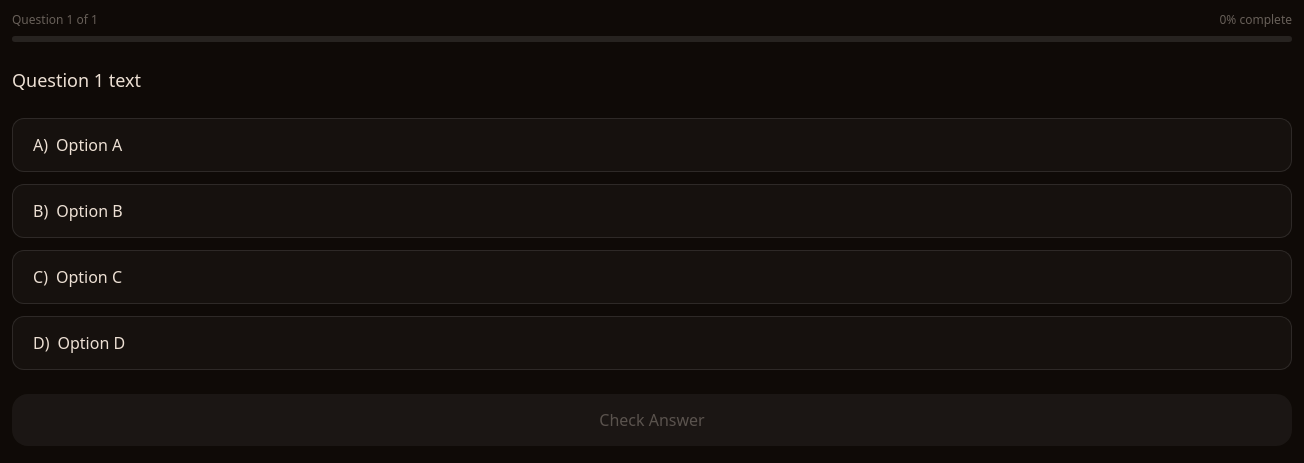
it: QuizRenderer — answer selection › enables "Check Answer" once an option is selected
The width and height of the screenshot is (1304, 463).
What coordinates should you click on to do the following:
click the button "A)Option A"
I would click on:
 (89, 145)
Its box is left=12, top=118, right=1292, bottom=172.
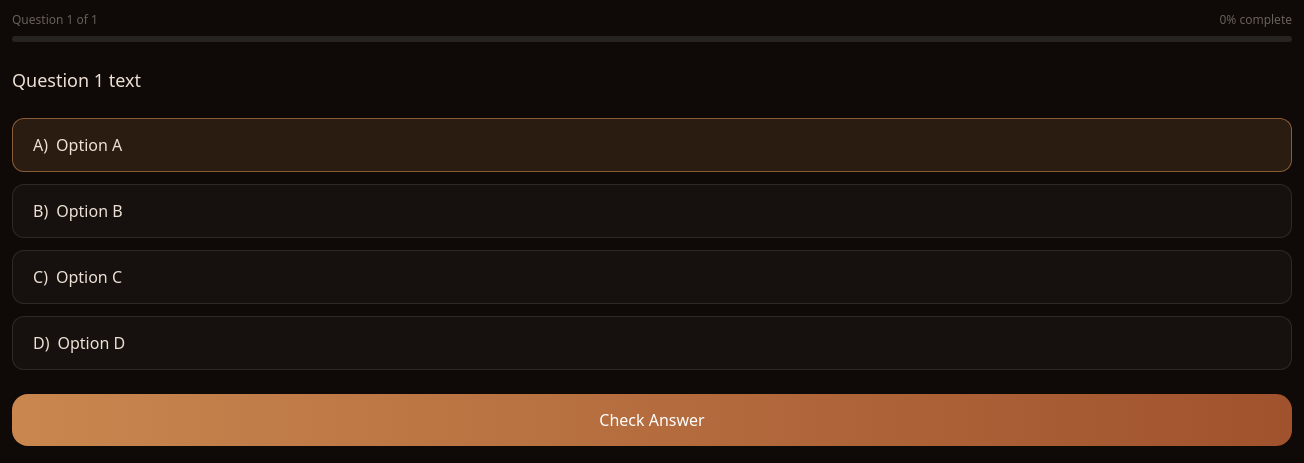
Check: the button "Check Answer" is enabled, box left=12, top=394, right=1292, bottom=446
